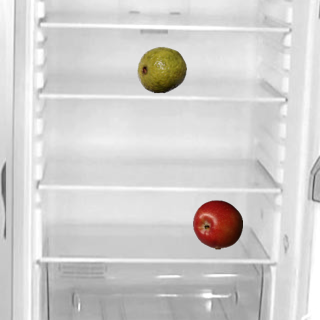Apple Braeburn: (192, 199, 242, 249)
Guava: (136, 44, 186, 94)
